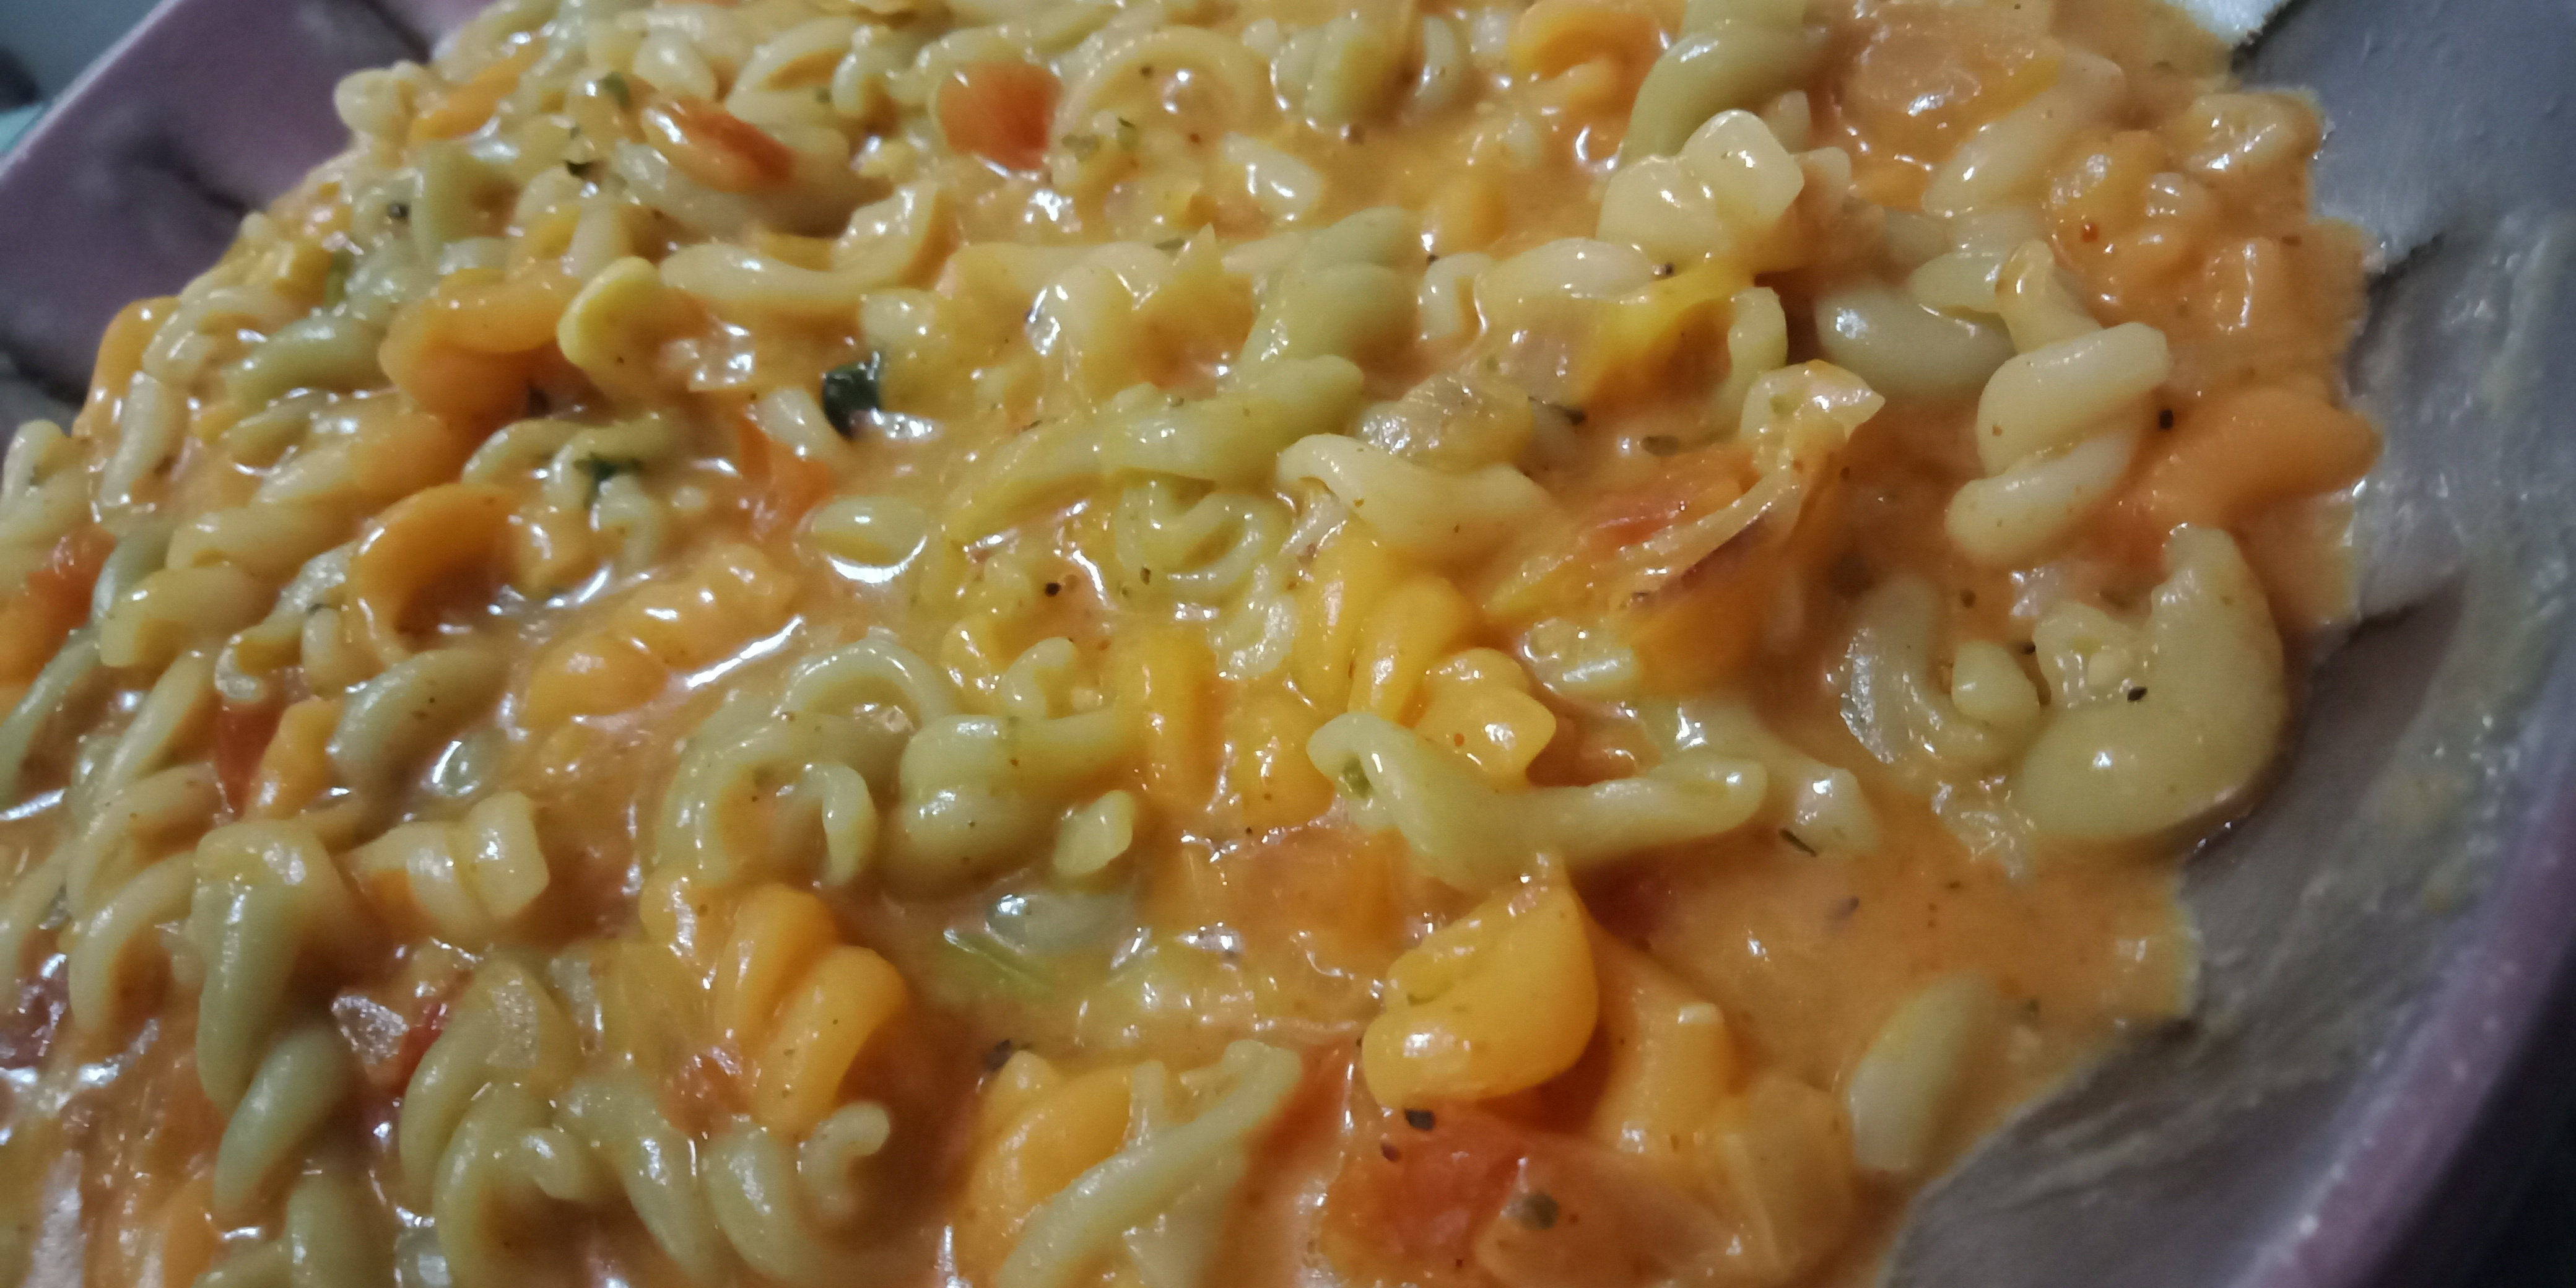food: (2, 5, 2392, 1288)
